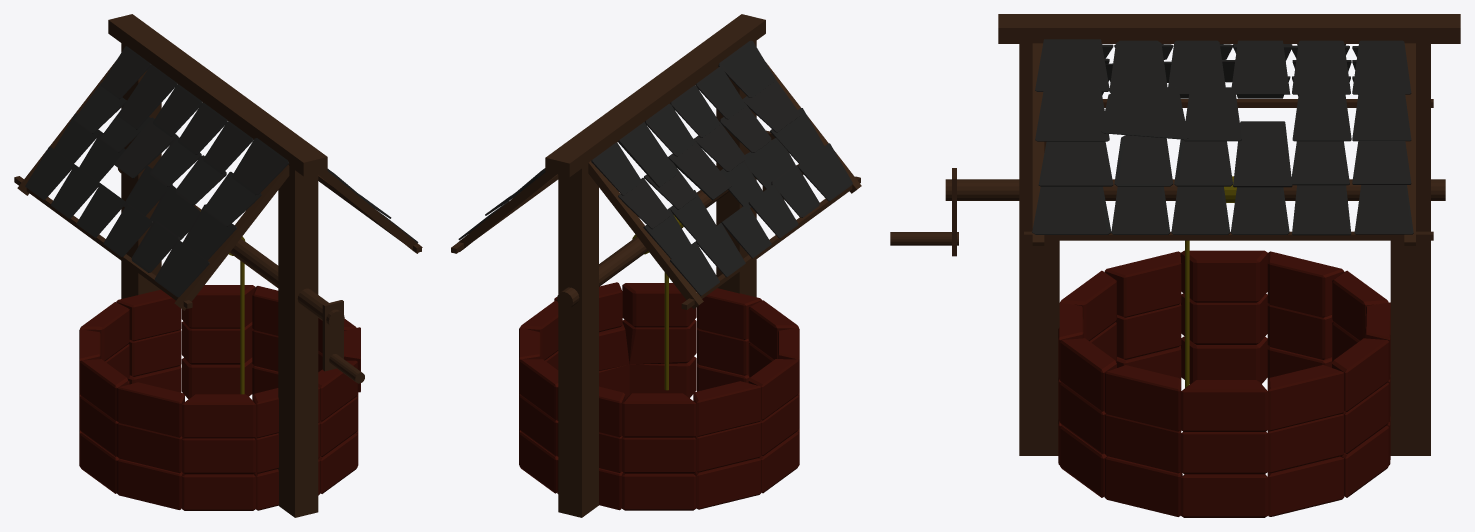
File: well.fbx
3 renders of one model, left to right at view 1: azimuth 30°, elevation 25°; view 2: azimuth 150°, elevation 25°; view 3: azimuth 270°, elevation 25°, orthographic. The views are drawn at different scales.
Visible parts, largest first — view 1: Cube.025; view 2: Cube.025; view 3: Cube.025.
Part boxes in pixels (x1,y1,x2,y2): Cube.025: (14,14,422,517); Cube.025: (451,14,861,517); Cube.025: (890,14,1460,517).
Bounding box in the file's own units: 361 × 511 × 617.
